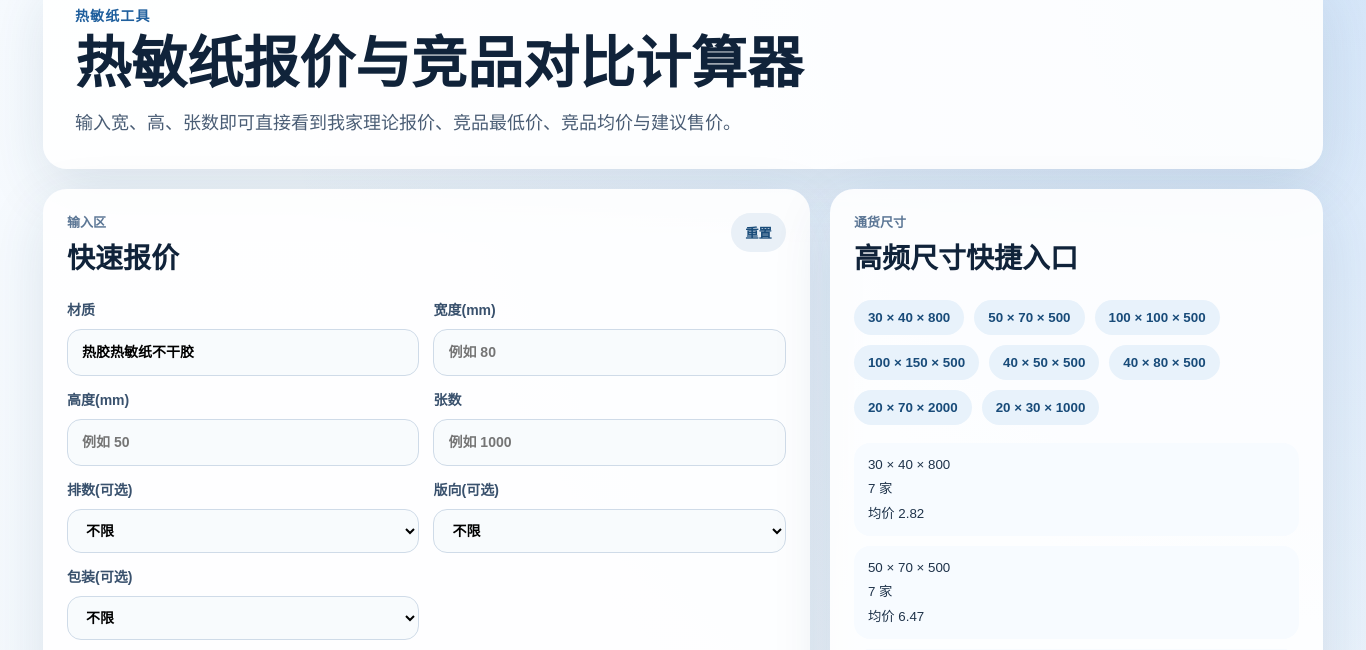
Test: app › shows quote cards after required fields are entered
Type "100" into the field labelled "宽度(mm)" at point(610, 353), box [434,329,786,376]
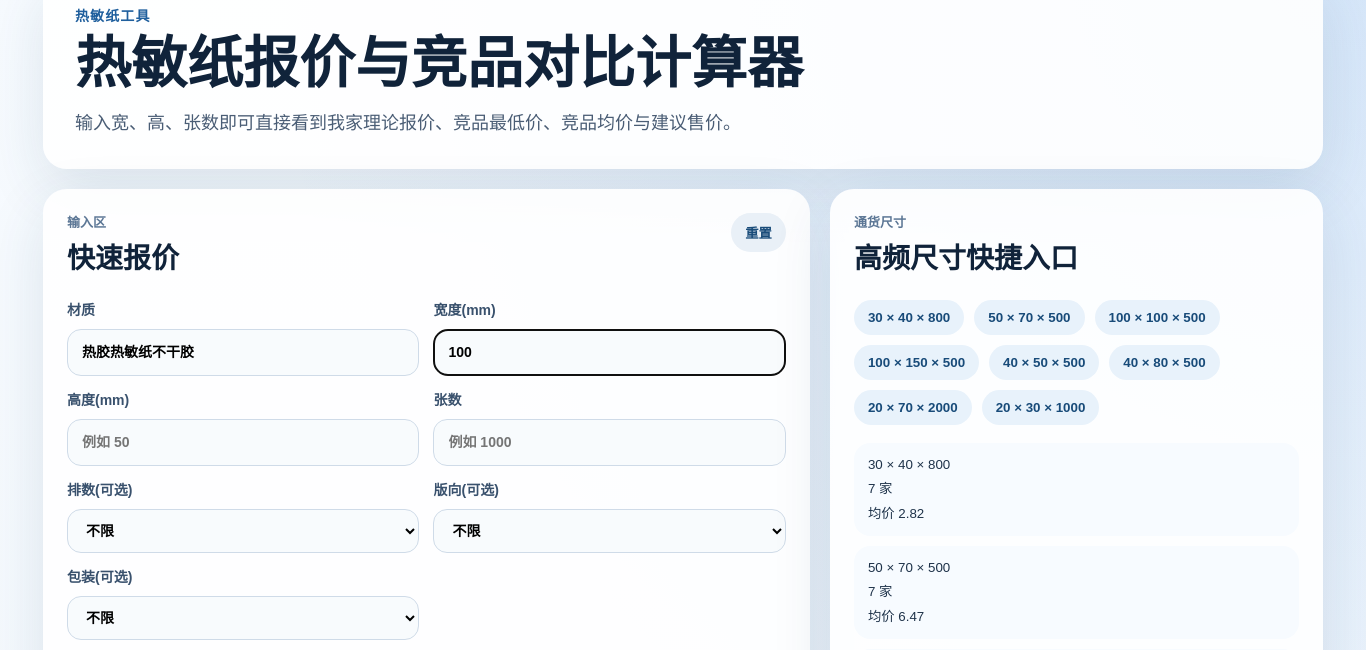
Type "100" into the field labelled "高度(mm)" at point(243, 443), box [67,419,420,466]
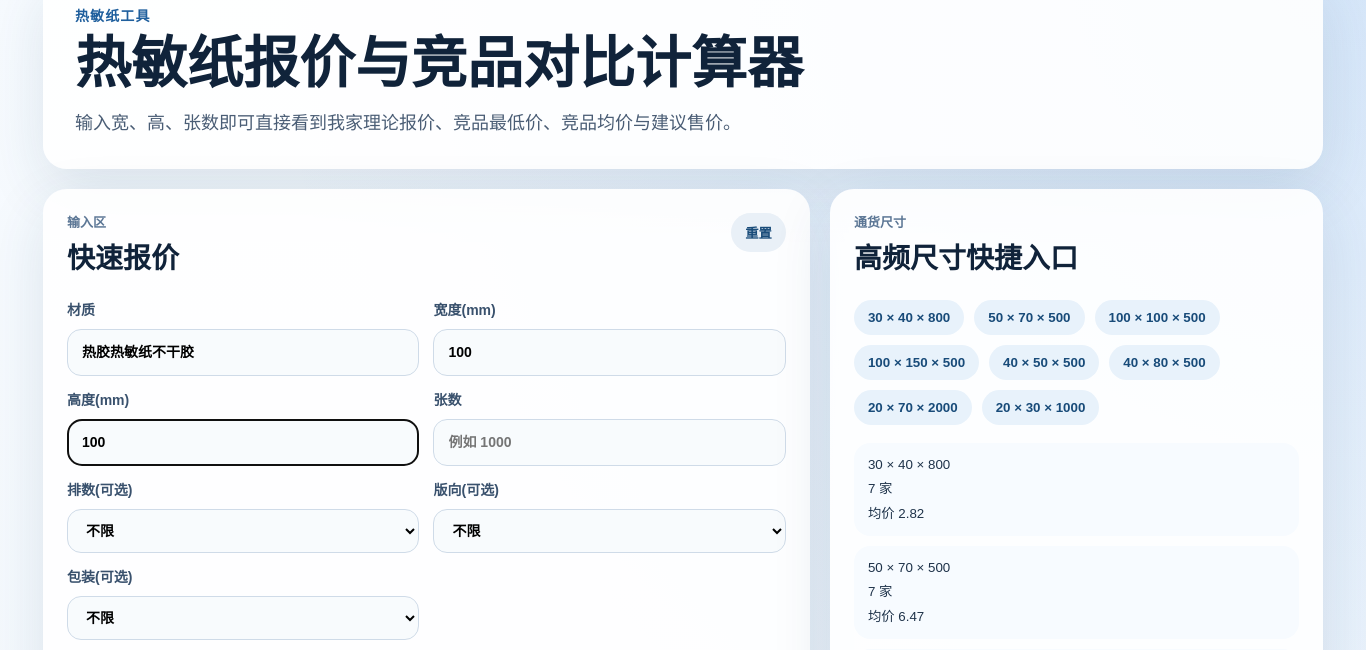
Type "500" into the field labelled "张数" at point(610, 443), box [434,419,786,466]
(page scrolled)
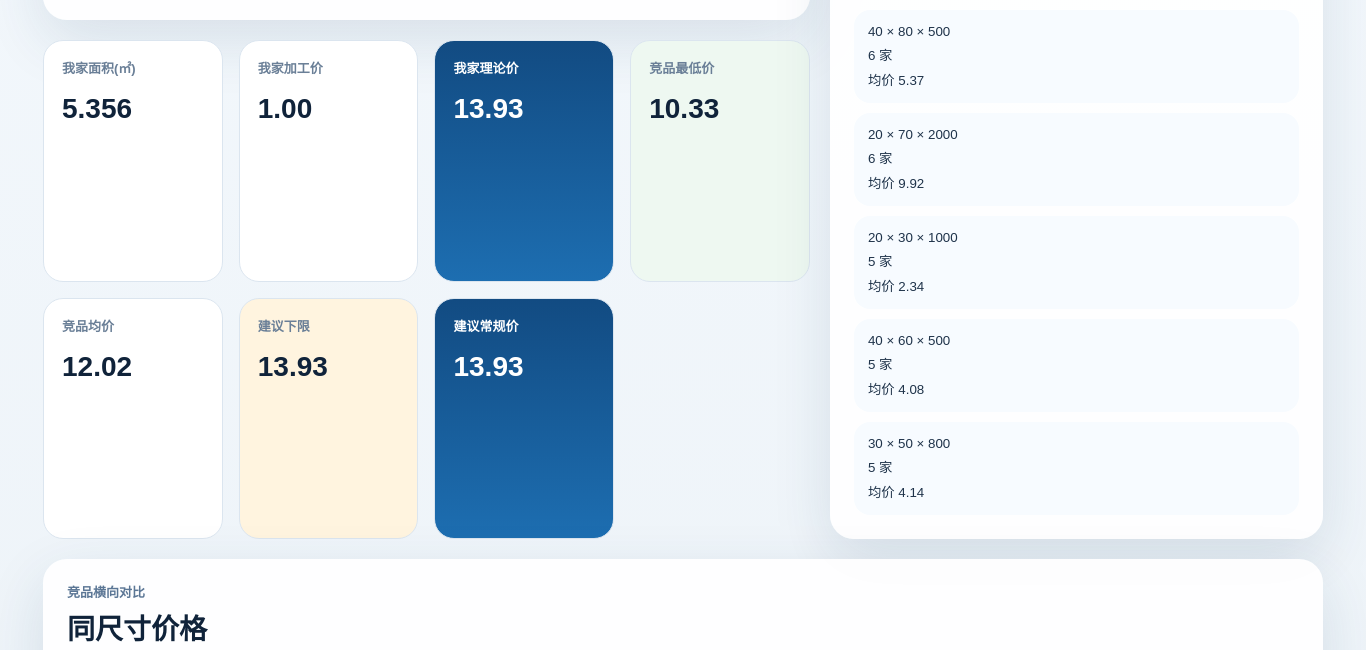
Expected: the text "建议常规价" is shown, [454,318,518,334]
Expected: the text "13.93" below "我家理论价" is shown, [454,93,524,124]
